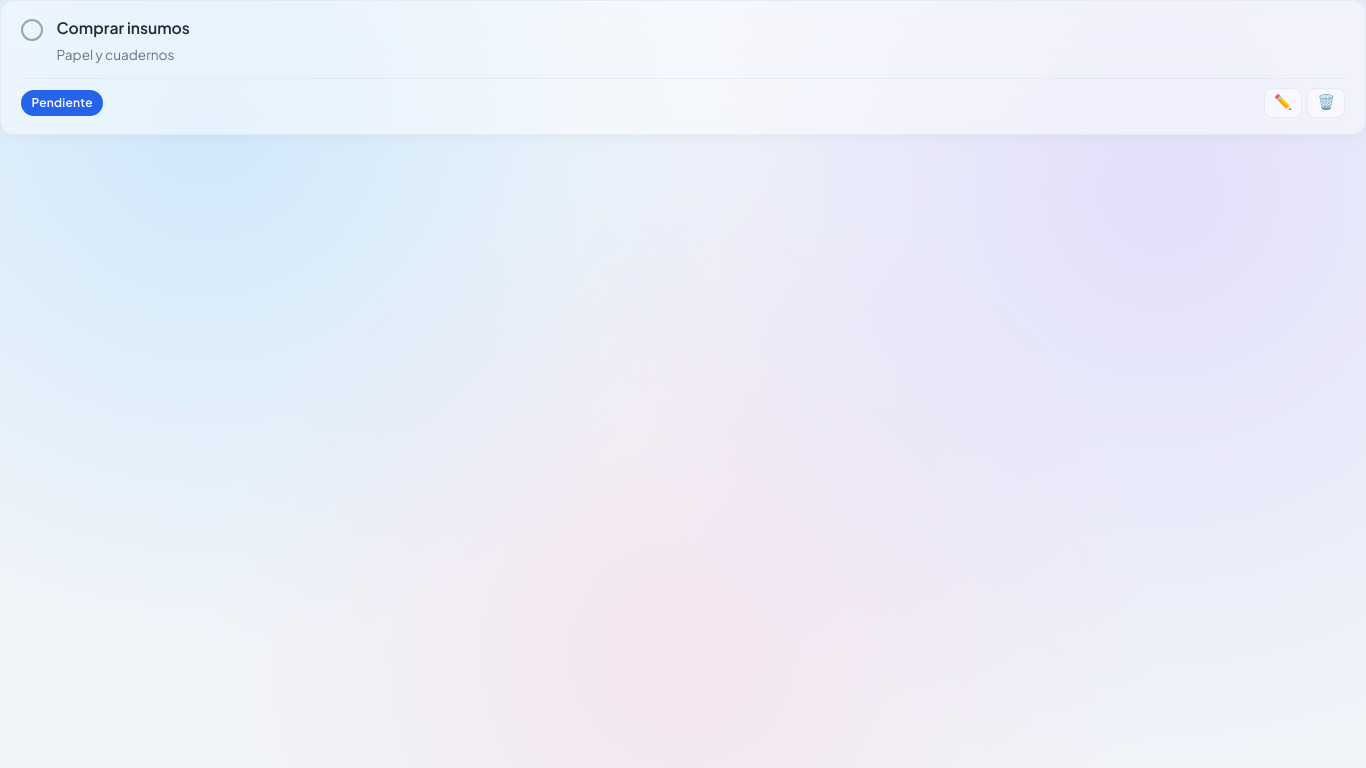
Test: Componente: TodoItem (Flujo de Edición e Interacción) › debe alternar a modo edición al presionar el botón Editar
The width and height of the screenshot is (1366, 768).
Click the button named "editar".
click(1283, 103)  # box 1264,88 -> 1302,118
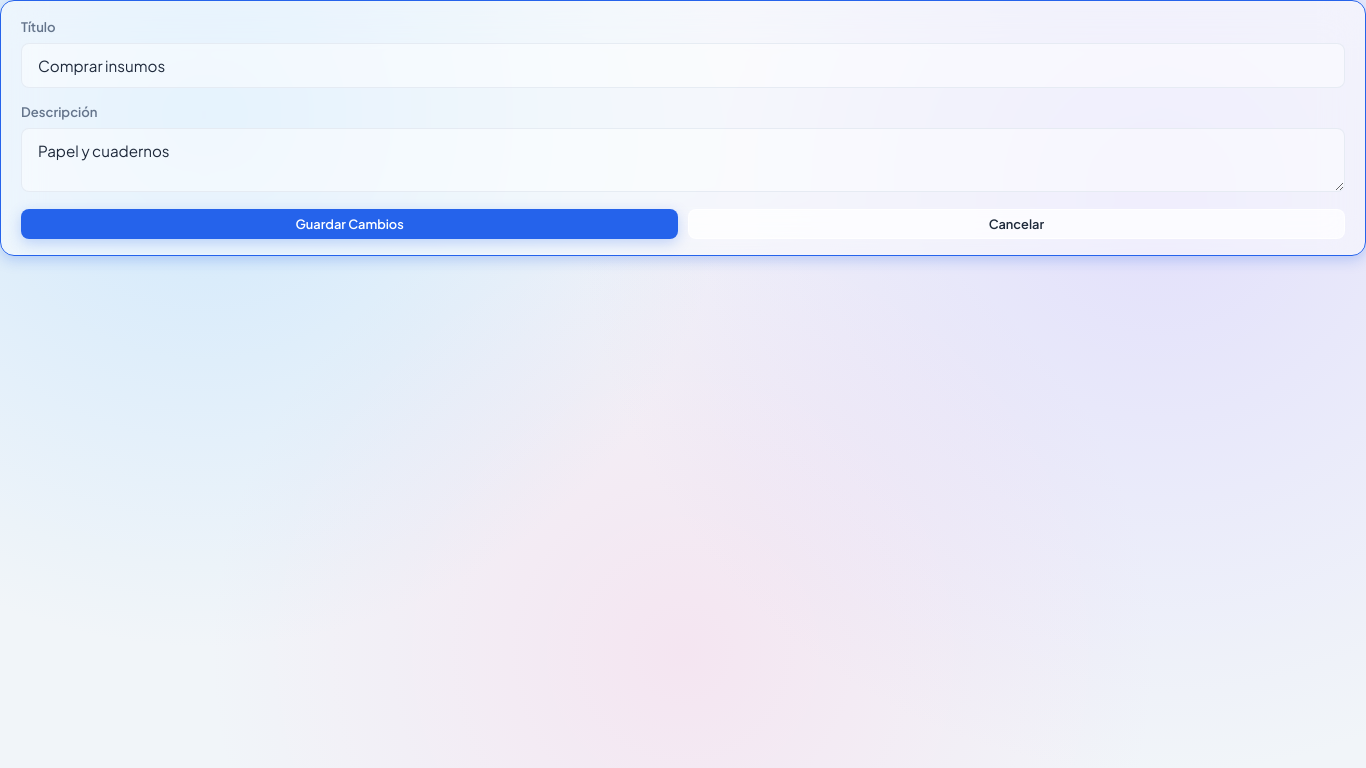
Result: the field showing "Comprar insumos" is shown at 21,43 -> 1345,88
Result: the text box showing "Papel y cuadernos" is shown at 21,128 -> 1345,192
Result: the button "Guardar Cambios" is shown at 21,209 -> 678,238
